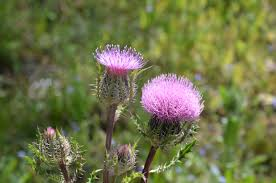bull thistle: (140, 71, 206, 150), (91, 41, 151, 110)
